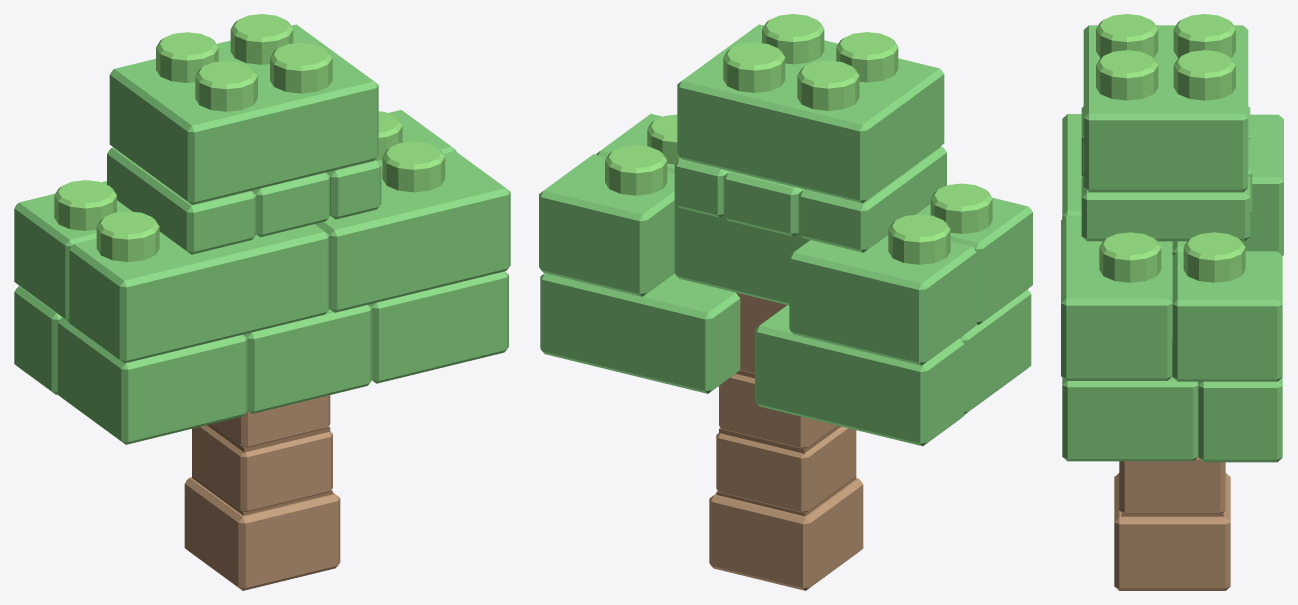
The model's file is ToylandBuildingBlockTree.fbx.
3 renders of one model, left to right at view 1: azimuth 30°, elevation 25°; view 2: azimuth 150°, elevation 25°; view 3: azimuth 270°, elevation 25°, orthographic.
Visible parts, largest first — view 1: ToylandBuildingBlockTree.Crown, ToylandBuildingBlockTree.Trunk, ToylandBuildingBlockTree.CrownStuds, ToylandBuildingBlockTree.TrunkSeams; view 2: ToylandBuildingBlockTree.Crown, ToylandBuildingBlockTree.Trunk, ToylandBuildingBlockTree.CrownStuds, ToylandBuildingBlockTree.TrunkSeams; view 3: ToylandBuildingBlockTree.Crown, ToylandBuildingBlockTree.CrownStuds, ToylandBuildingBlockTree.Trunk, ToylandBuildingBlockTree.TrunkSeams.
Boxes of the visible parts, bbox=[...] form: ToylandBuildingBlockTree.Crown: bbox=[14, 24, 510, 444]; ToylandBuildingBlockTree.Trunk: bbox=[184, 395, 340, 590]; ToylandBuildingBlockTree.CrownStuds: bbox=[54, 14, 445, 261]; ToylandBuildingBlockTree.TrunkSeams: bbox=[192, 424, 332, 515]; ToylandBuildingBlockTree.Crown: bbox=[539, 24, 1032, 446]; ToylandBuildingBlockTree.Trunk: bbox=[709, 292, 863, 590]; ToylandBuildingBlockTree.CrownStuds: bbox=[605, 14, 992, 264]; ToylandBuildingBlockTree.TrunkSeams: bbox=[716, 370, 856, 516]; ToylandBuildingBlockTree.Crown: bbox=[1061, 25, 1283, 462]; ToylandBuildingBlockTree.CrownStuds: bbox=[1096, 14, 1245, 282]; ToylandBuildingBlockTree.Trunk: bbox=[1114, 457, 1230, 590]; ToylandBuildingBlockTree.TrunkSeams: bbox=[1121, 512, 1223, 516].
Size of the model in its own units: 6.93 by 8.76 by 3.44.
